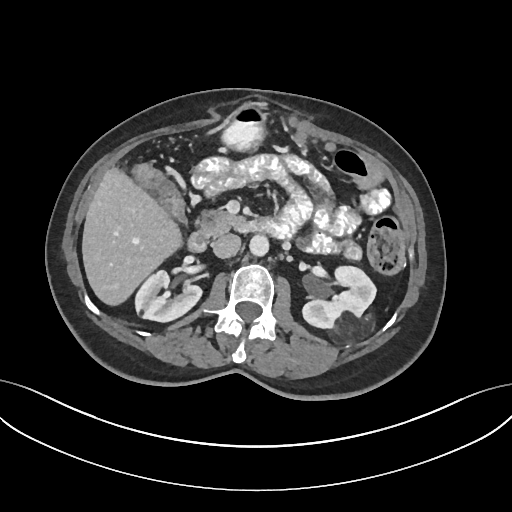Lesion: (326, 308, 374, 349)
